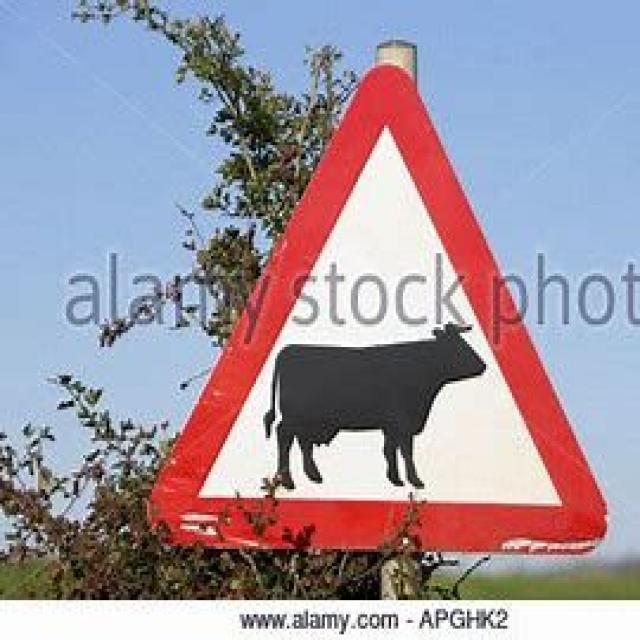CATTLE: (142, 59, 607, 554)
